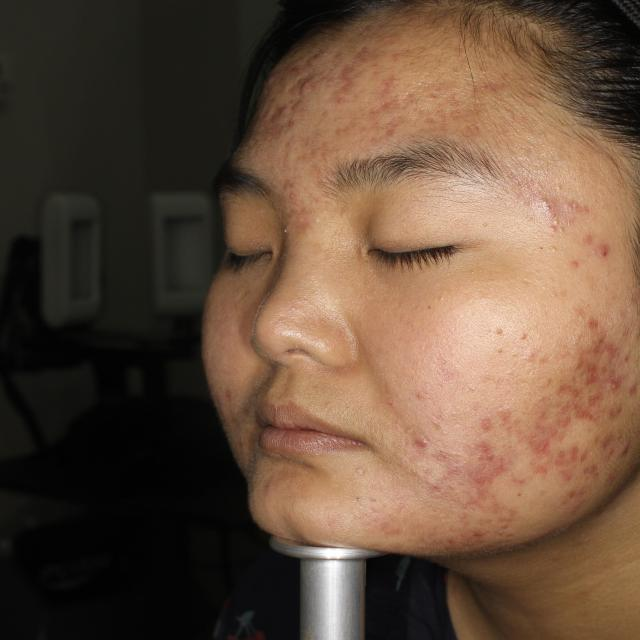acne: (585, 335, 634, 372), (459, 76, 508, 105), (325, 68, 367, 101), (516, 434, 555, 468), (402, 431, 440, 465), (368, 106, 401, 143), (582, 238, 618, 268), (546, 377, 584, 404), (465, 410, 497, 442), (566, 357, 601, 386), (476, 456, 511, 485), (565, 315, 606, 339), (524, 191, 554, 223), (543, 404, 577, 431), (582, 388, 612, 418), (576, 458, 610, 483), (265, 98, 289, 132), (590, 428, 618, 457), (369, 76, 402, 100), (284, 81, 317, 104), (284, 205, 314, 228), (560, 198, 590, 220), (284, 177, 308, 204), (552, 462, 572, 488), (549, 450, 588, 463), (612, 437, 632, 457)
